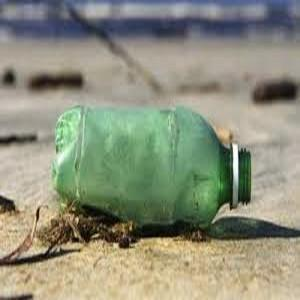Plastic: (52, 106, 258, 229)
